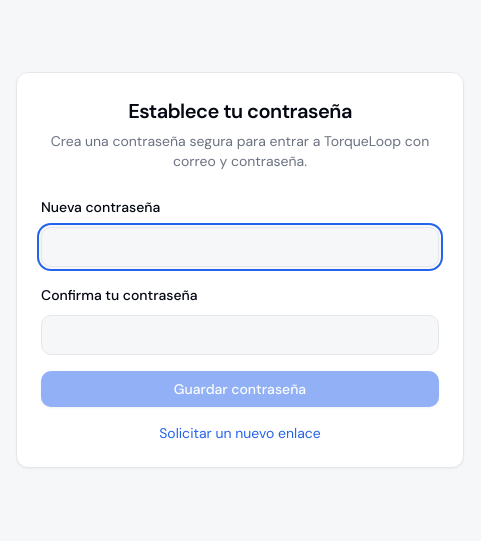
Scenario: Password recovery forms › sets the recovery password when both entries match
Type "password123" into the password field labelled "Nueva contraseña".
click(240, 247); type("password123")  # box 41,227 -> 439,267
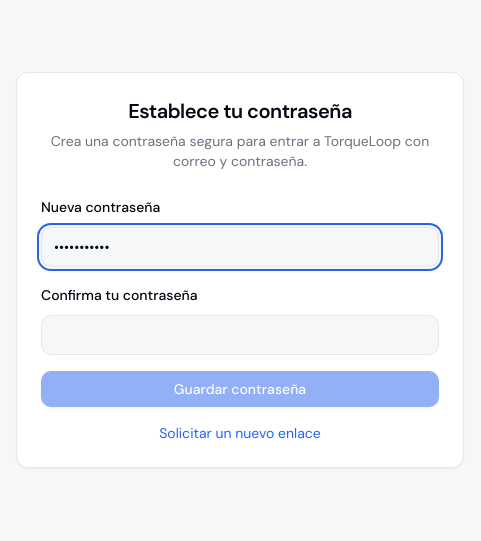
Type "password123" into the password field labelled "Confirma tu contraseña".
click(240, 335); type("password123")  # box 41,315 -> 439,355
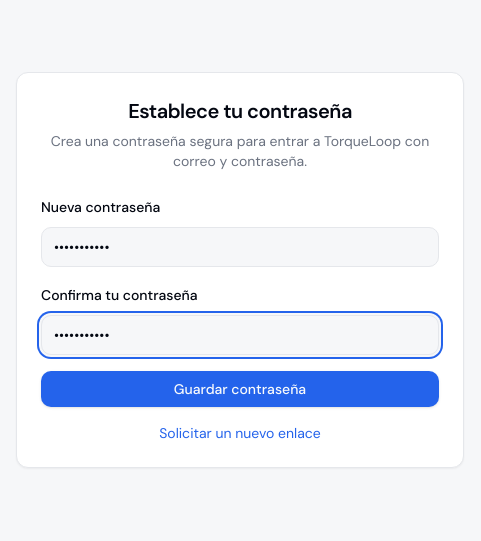
Click the button "Guardar contraseña".
click(240, 389)  # box 41,371 -> 439,407
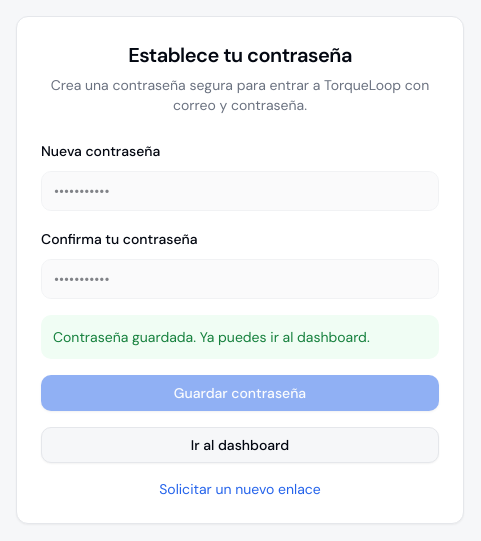
Check: the text "Contraseña guardada. Ya puedes ir al dashboard." is shown, box 41,315 -> 439,359
